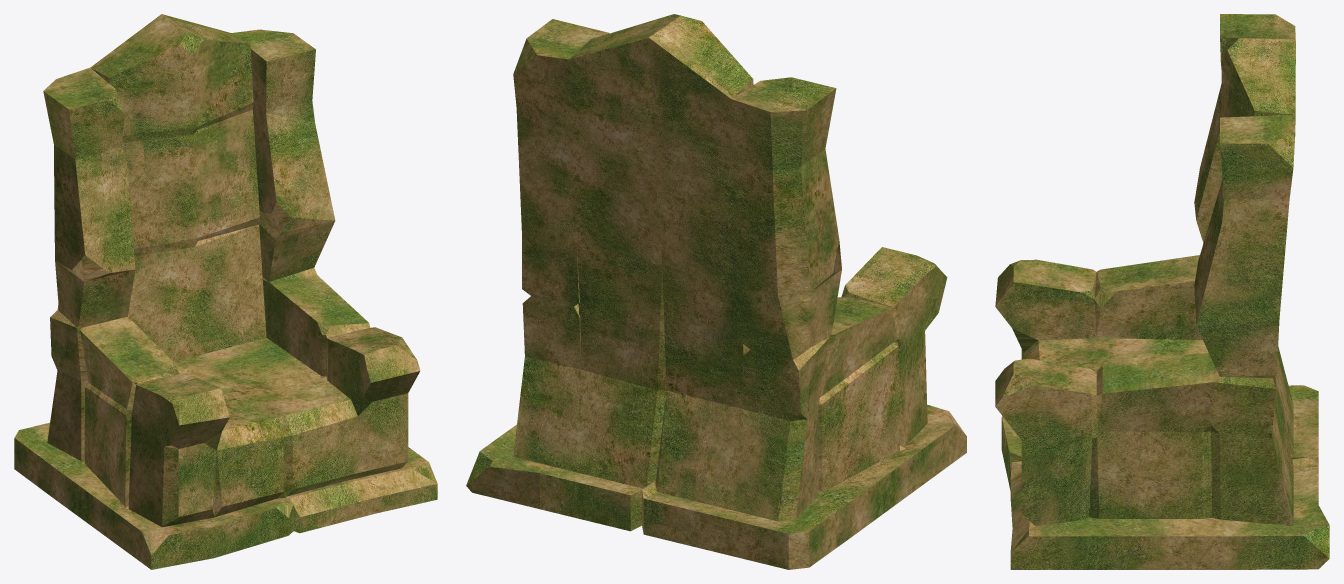
The model's file is throne.fbx.
The picture shows the model from 3 angles, left to right: view 1: azimuth 30°, elevation 25°; view 2: azimuth 150°, elevation 25°; view 3: azimuth 270°, elevation 25°; orthographic projection. The views are drawn at different scales.
Parts seen in each view (by area): view 1: Cube; view 2: Cube; view 3: Cube.
Boxes of the visible parts, bbox=[...] form: Cube: bbox=[14, 14, 437, 569]; Cube: bbox=[466, 14, 966, 569]; Cube: bbox=[995, 14, 1329, 569].
Size of the model in its own units: 120 by 170 by 113.
